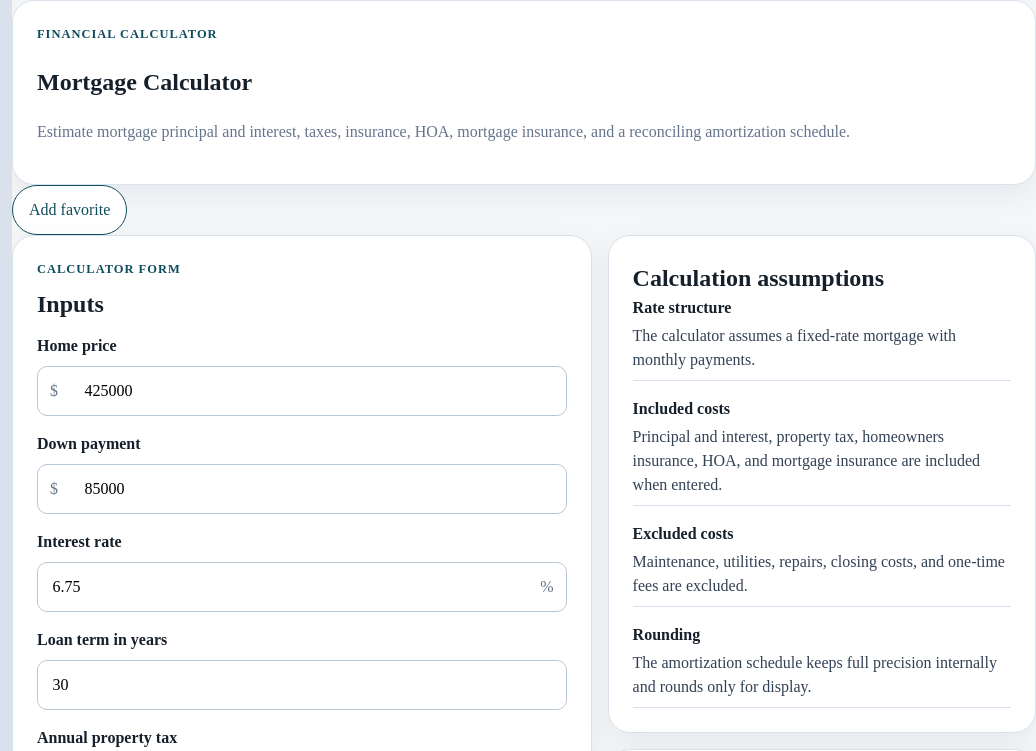
Test: calculator components › blocks an invalid mortgage down payment larger than home price
Replace the text in the number field labelled "Down payment" with "500000". click: (318,489)
box: [70,465,566,513]
(page scrolled)
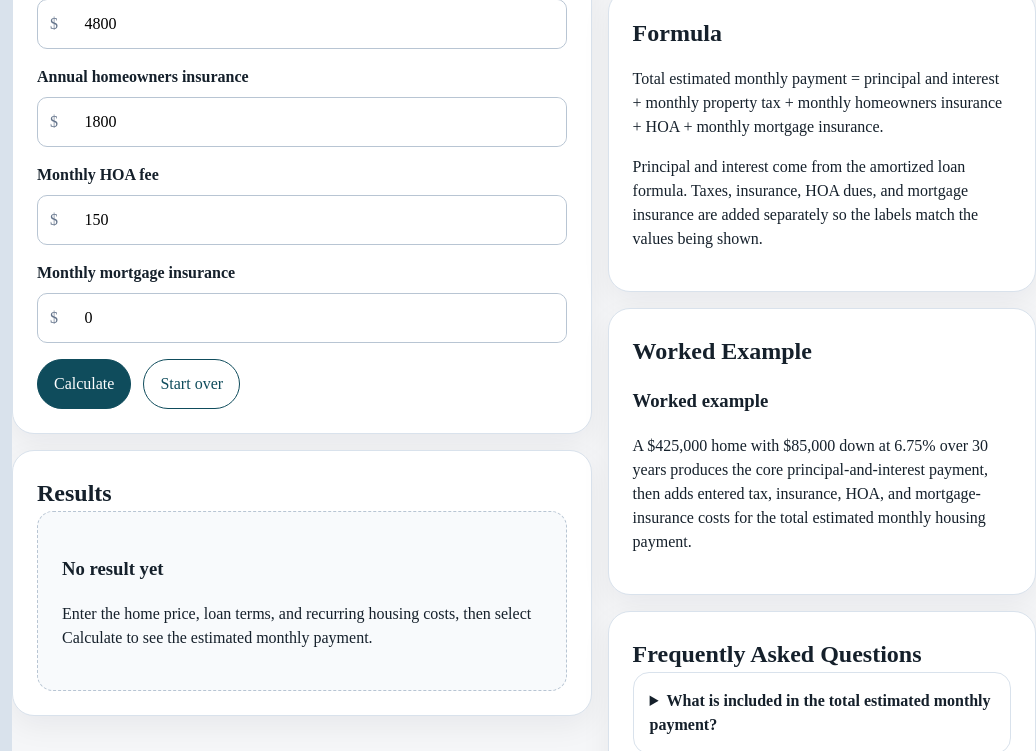
Click the button "Calculate". click: (84,384)
box: [37,359,131,409]
(page scrolled)
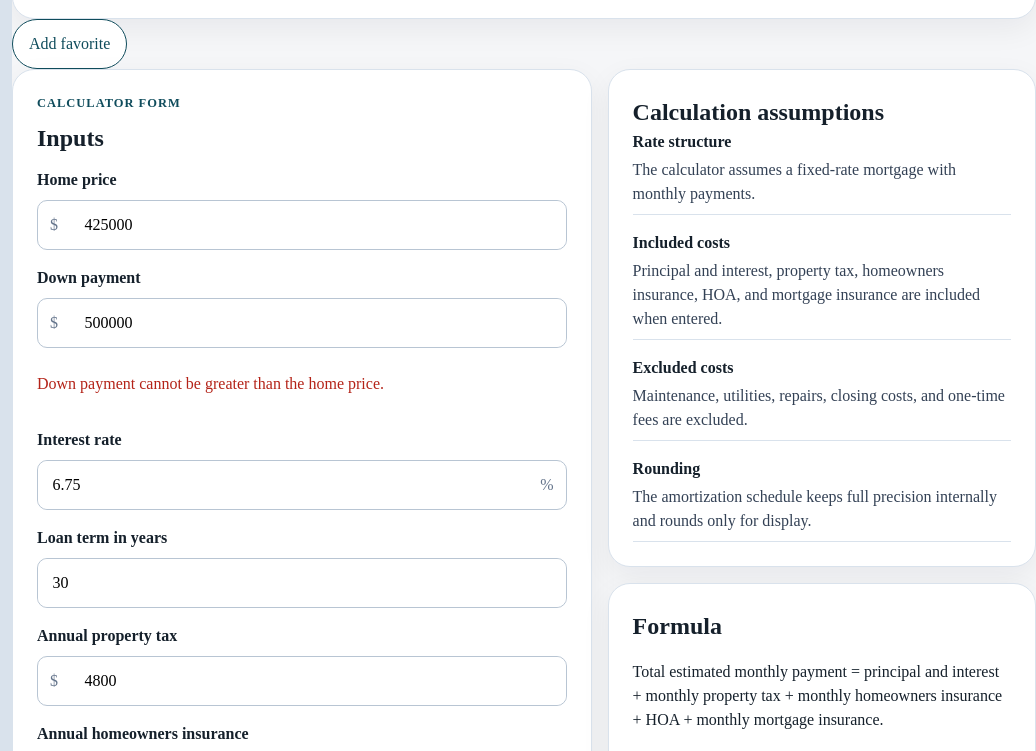
Expected: the text "Down payment cannot be greater than the home price." is shown, [37,375,384,392]
